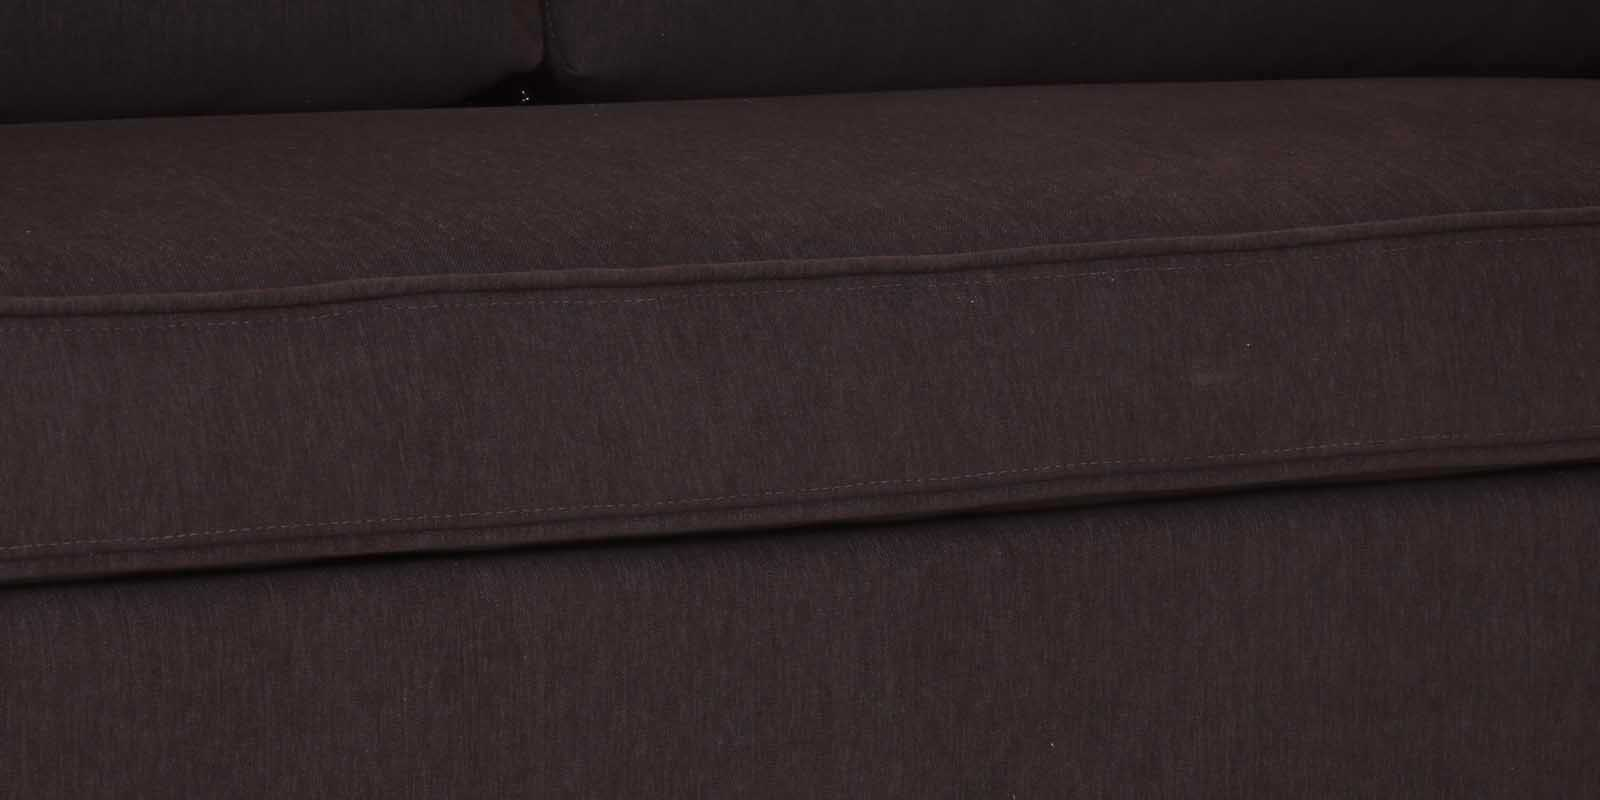Miranda Three Seater Sofa in Chestnut Brown Colour by CasaCraft: (5, 3, 1598, 800)
